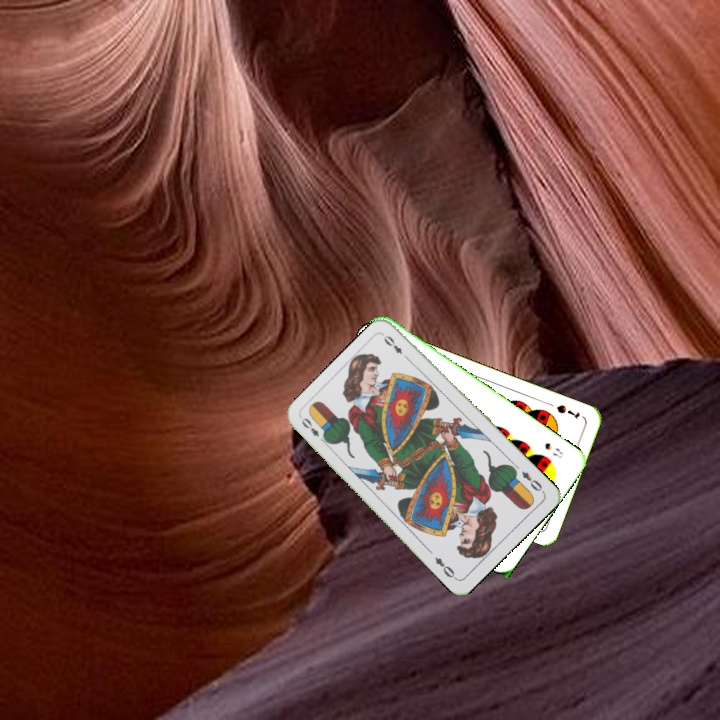EO: (297, 414, 330, 446), (517, 467, 547, 495)
S7: (552, 401, 582, 421)
S8: (541, 438, 566, 461)
